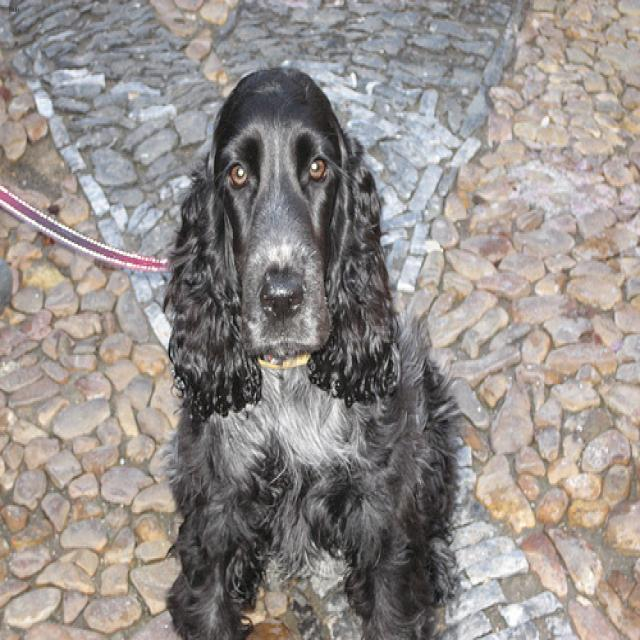dog-english_cocker_spaniel: (146, 55, 477, 637)
